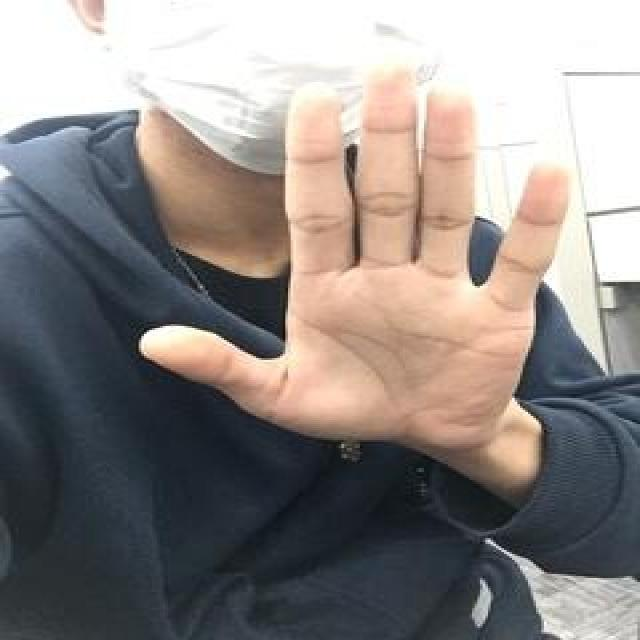hand: (136, 50, 579, 452)
